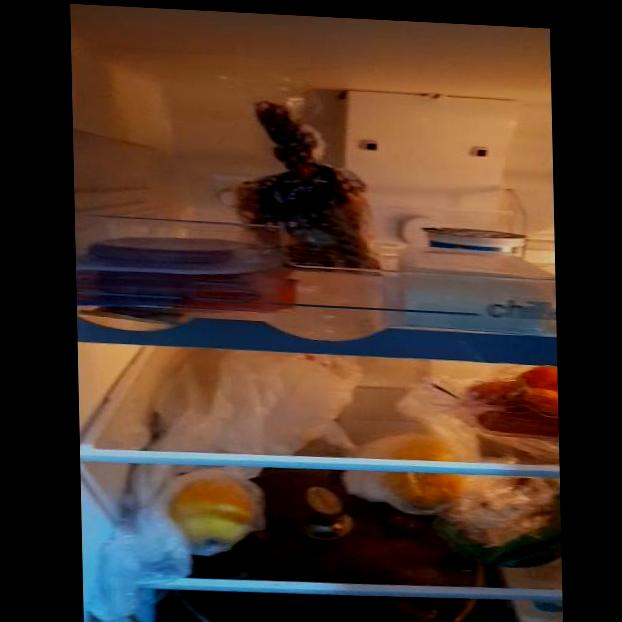bread: (241, 172, 377, 267)
carrots: (467, 362, 561, 435)
cheese: (395, 250, 551, 311)
green chilies: (434, 519, 561, 568)
lemon: (174, 478, 255, 547), (390, 440, 461, 503)
yoghurt: (424, 222, 526, 253)
